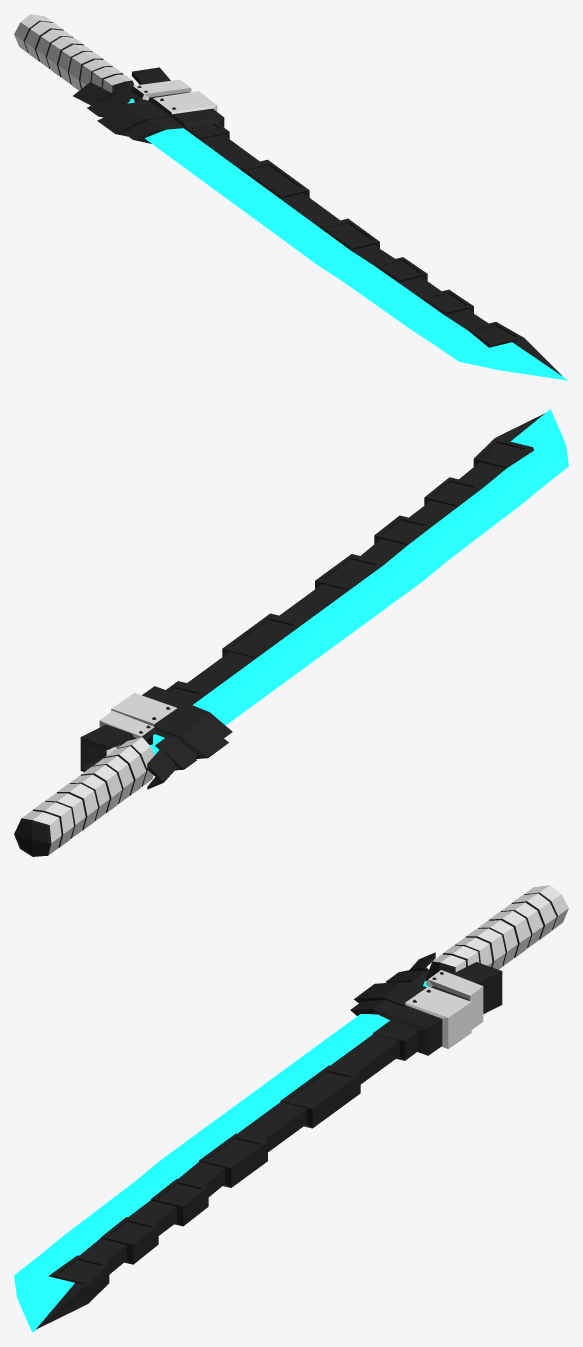
The model's file is BlueLightSword.fbx.
The picture shows the model from 3 angles, top to bottom: view 1: azimuth 30°, elevation 25°; view 2: azimuth 150°, elevation 25°; view 3: azimuth 330°, elevation 25°; orthographic projection. The views are drawn at different scales.
Parts seen in each view (by area): view 1: Cube; view 2: Cube; view 3: Cube.
Part boxes in pixels (left/top/right/bottom): Cube: left=14, top=14, right=568, bottom=380; Cube: left=14, top=409, right=568, bottom=856; Cube: left=14, top=885, right=568, bottom=1332.
Size of the model in its own units: 221 by 83.47 by 2042.
